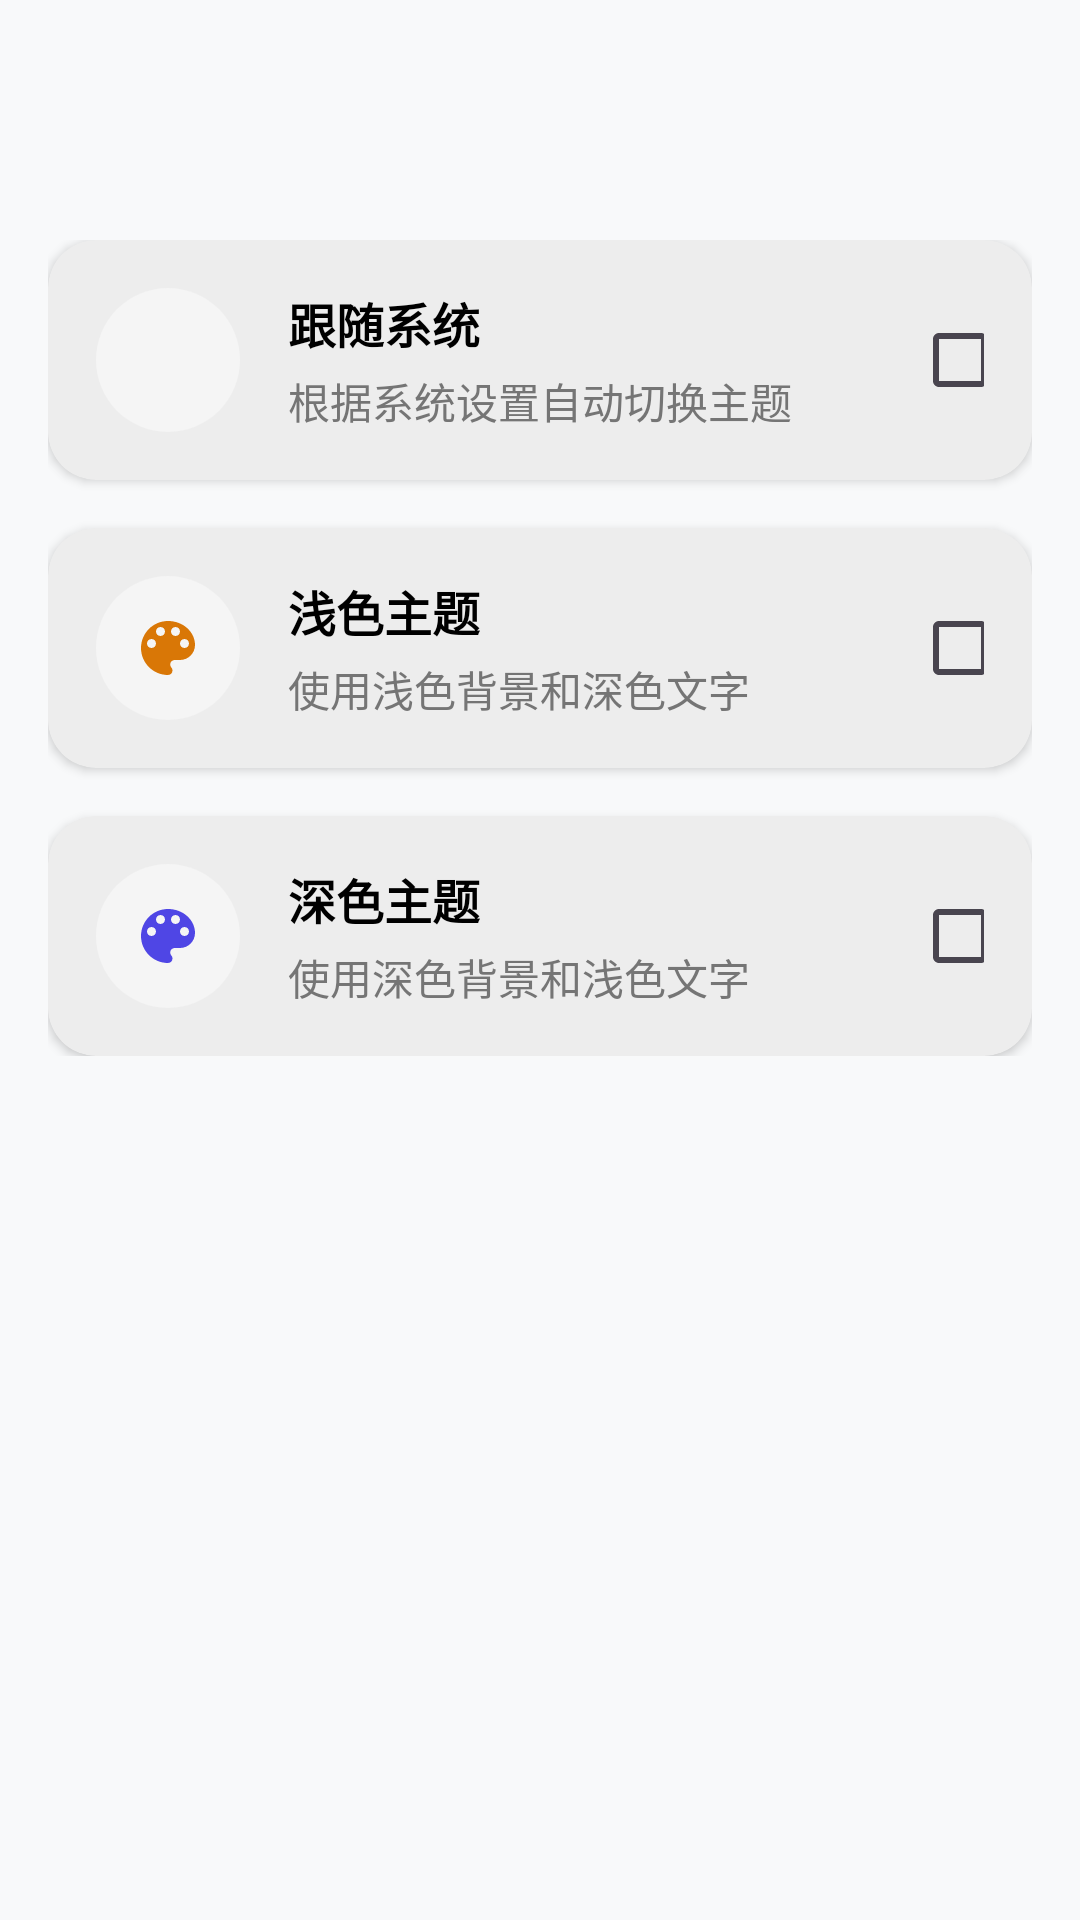

Icons on this 1080px×1920px Android screen, each with its box as region(x1, y1, x2, y2):
palette: region(141, 621, 195, 675), region(141, 909, 195, 963)
